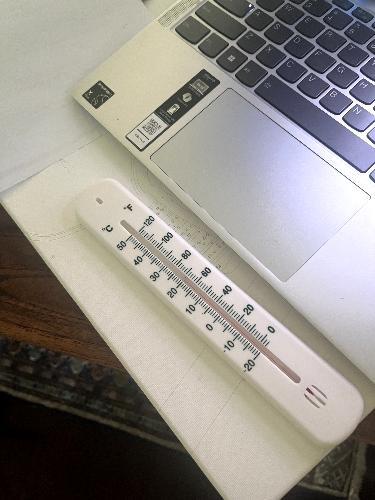thermo: (69, 168, 372, 448)
